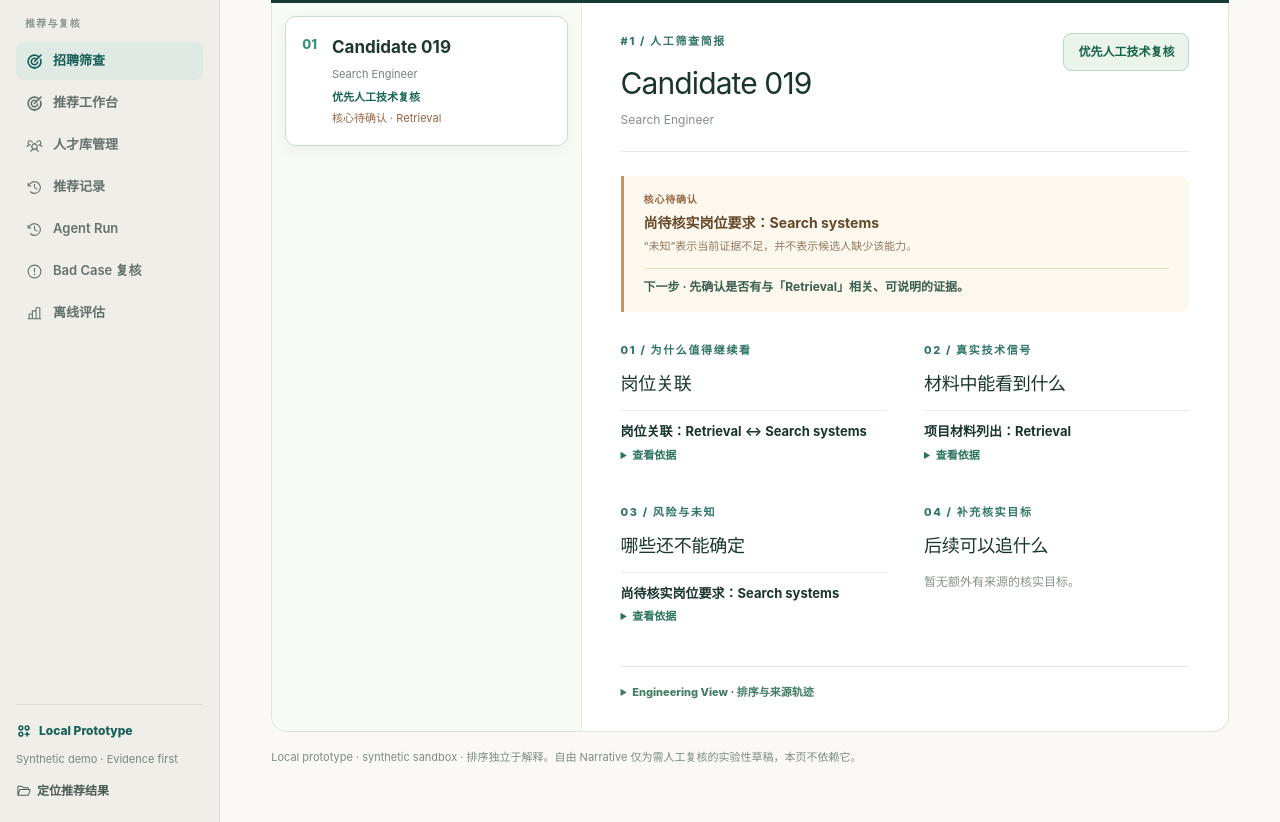
Recruiter View › shows a source-backed ranking feature breakdown without probability language
The image size is (1280, 822).
(page scrolled)
Click the heading "Engineering View · 排序与来源轨迹": (723, 692) x1=632 y1=685 x2=814 y2=699
(page scrolled)
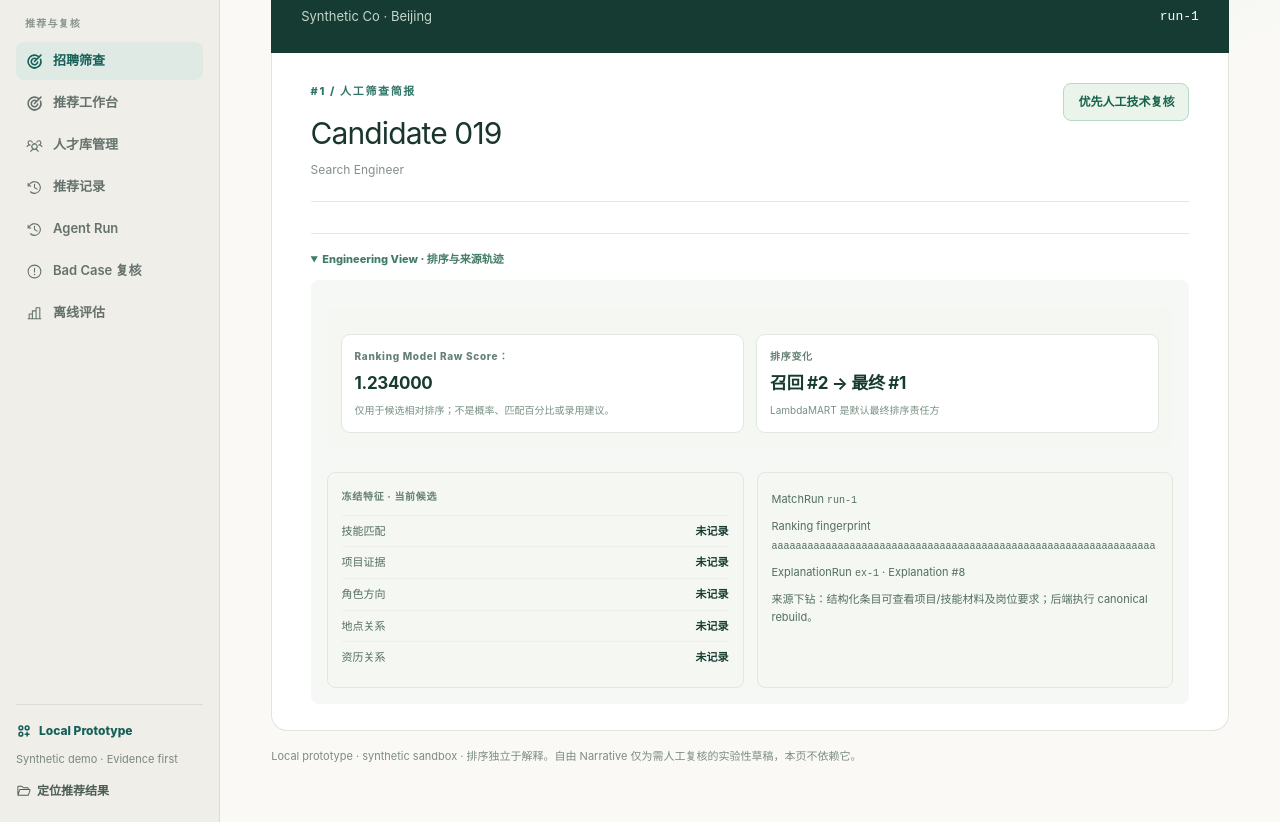
Check: the text "Ranking Model Raw Score：" is shown, box x1=355 y1=350 x2=509 y2=362
Check: the text "技能匹配" is shown, box x1=342 y1=522 x2=386 y2=540
Check: the text "项目证据" is shown, box x1=342 y1=553 x2=386 y2=572
